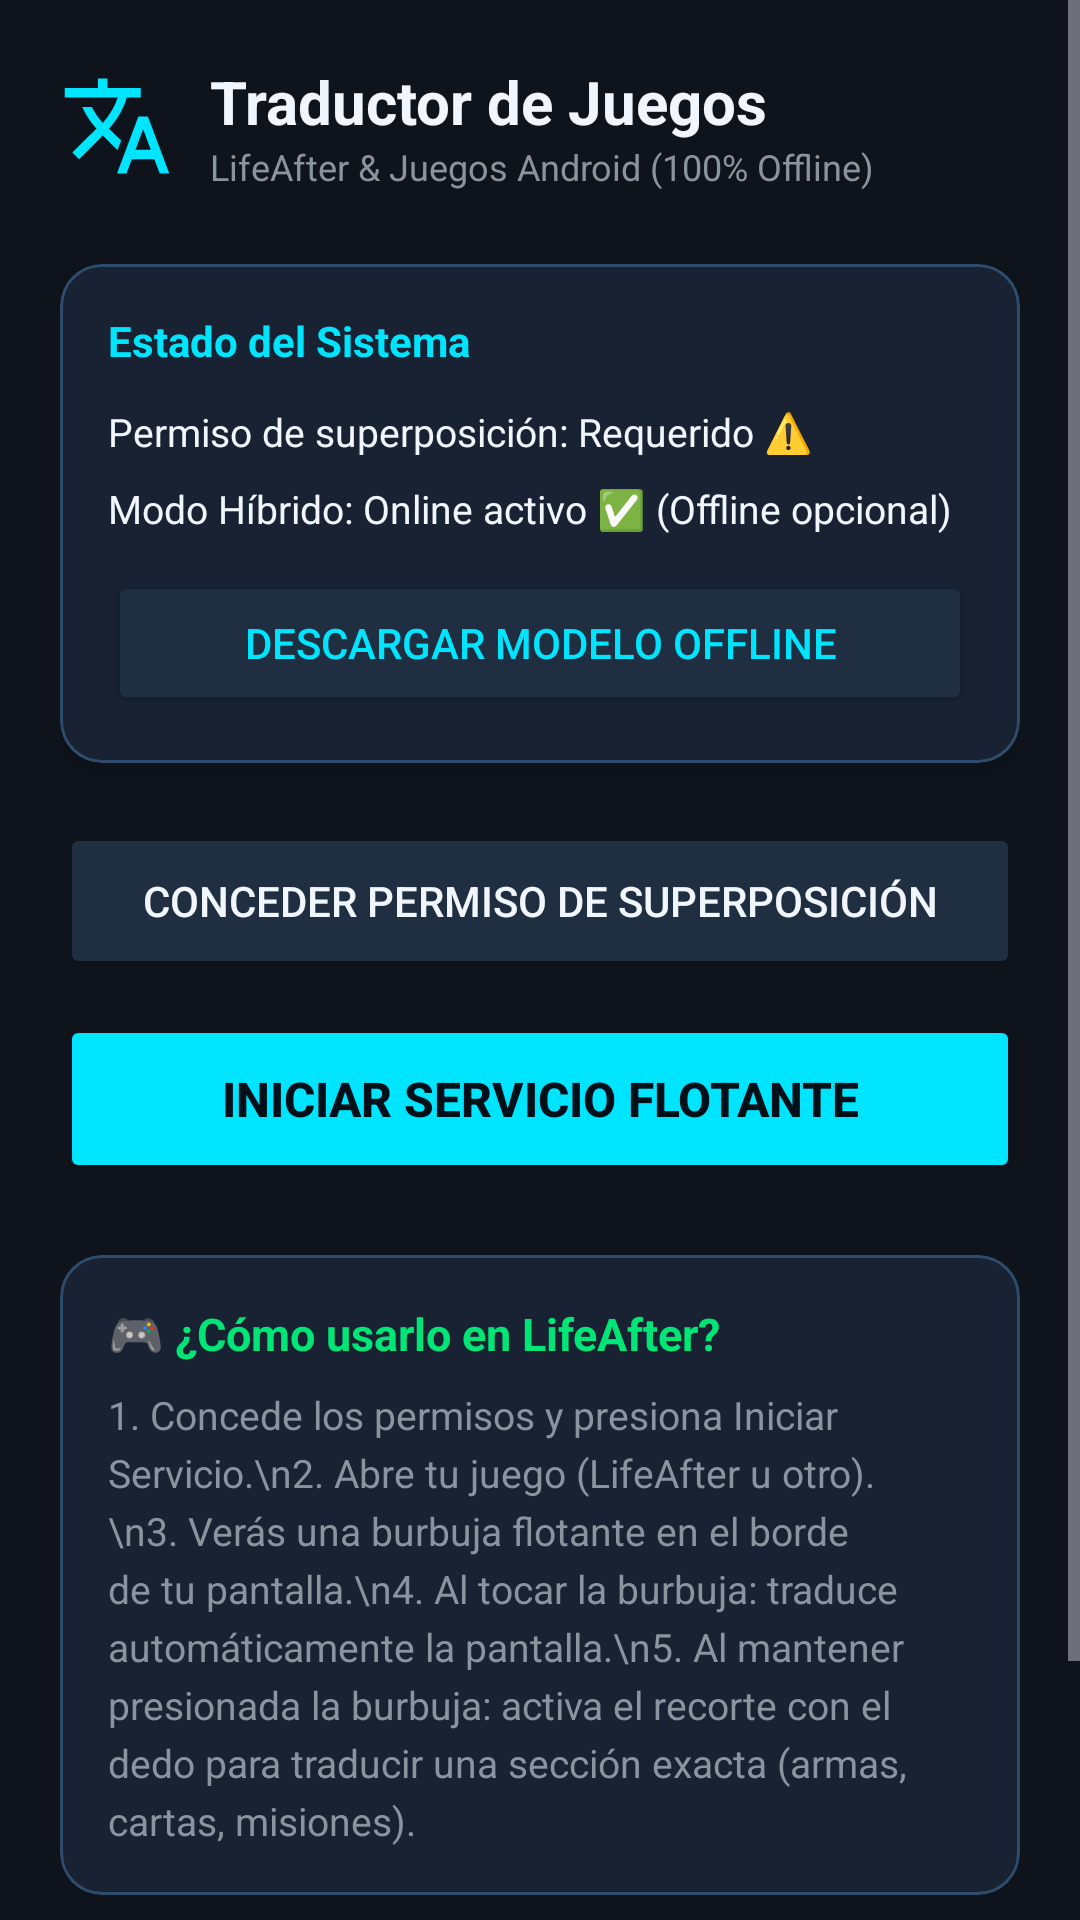

Named icons in this screenshot (1080px×1920px) and their bounding boxes, (x1, y1, x2, y2):
translate: (64, 78, 169, 174)
